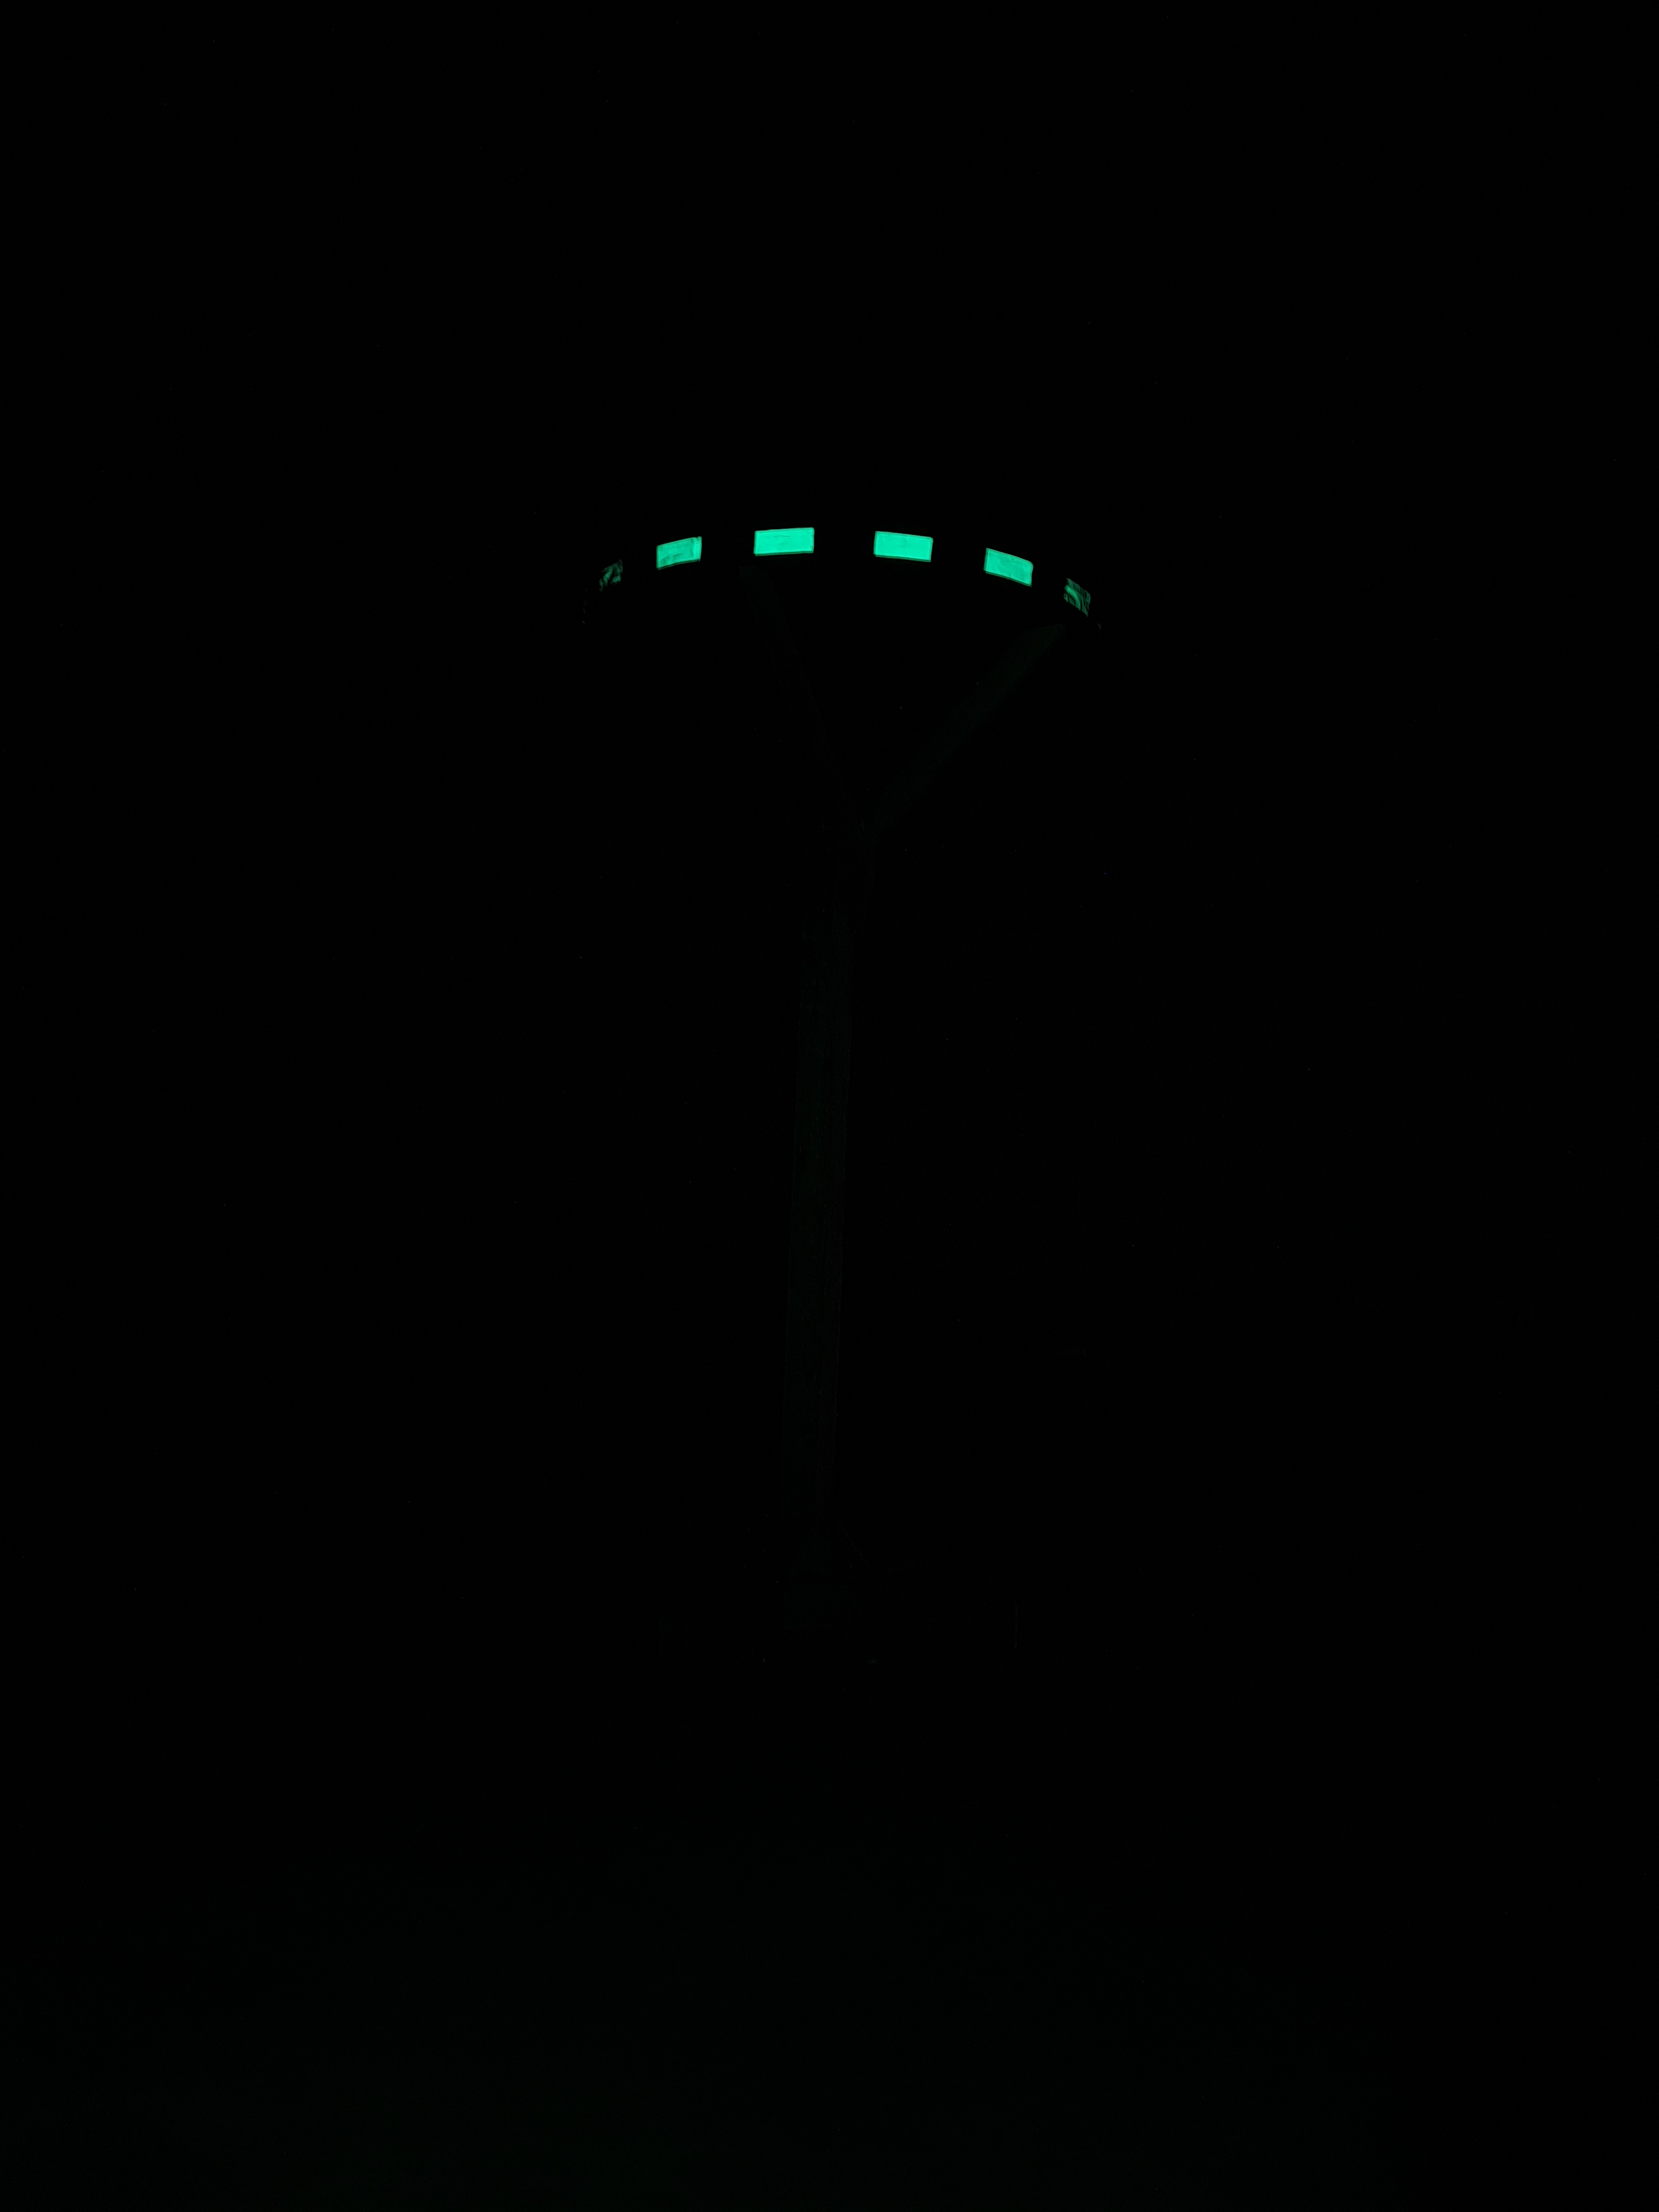hoop: (537, 516, 1117, 636)
